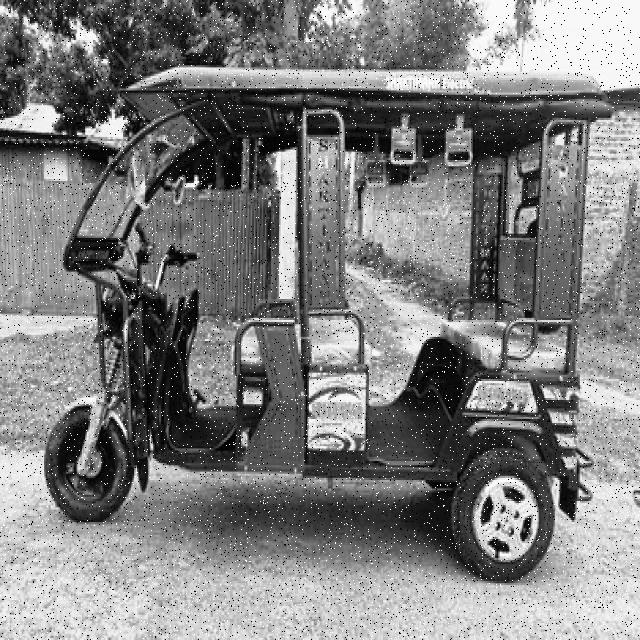Toto: (45, 62, 610, 590)
